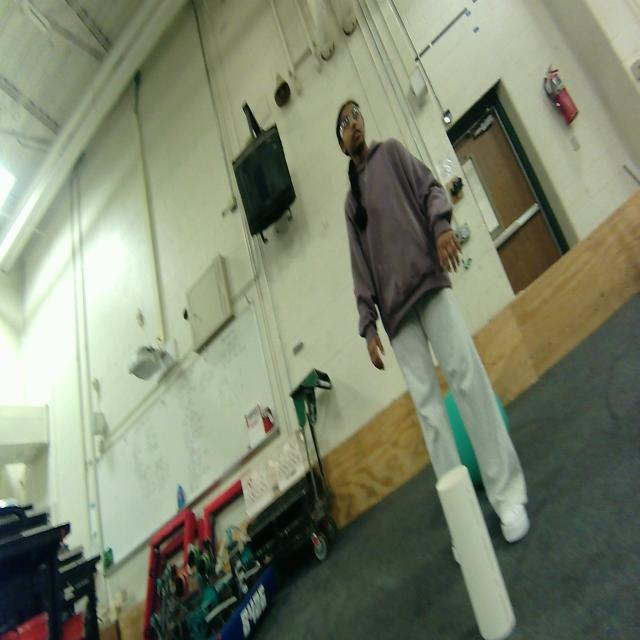coral: (434, 463, 518, 640)
